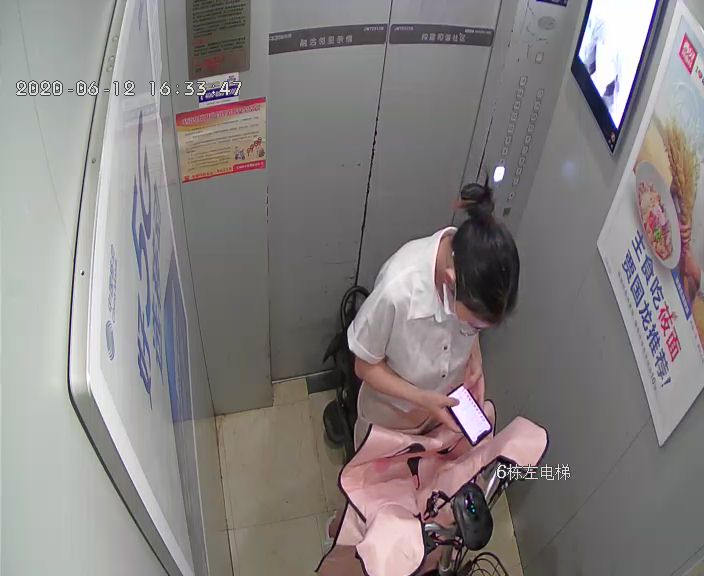Electric-bicycle: (317, 290, 519, 575)
